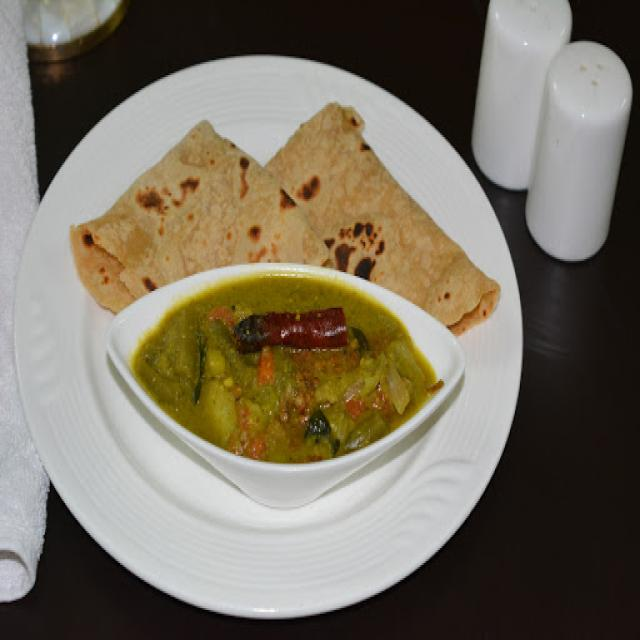chapathi: (270, 75, 509, 359), (55, 92, 330, 282)
